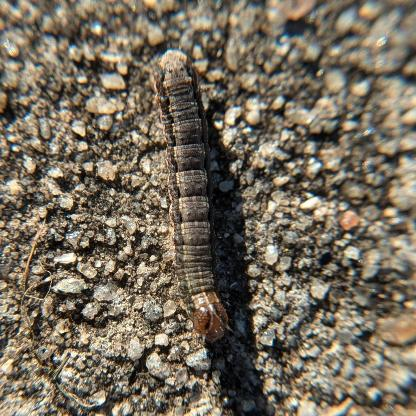Fall Armyworm Larvae: (150, 46, 238, 348)
